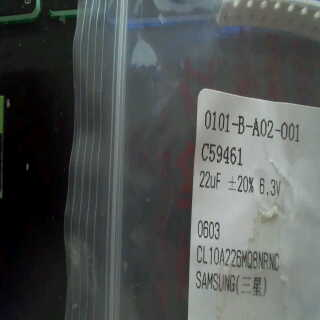22uF: (197, 166, 223, 195)
